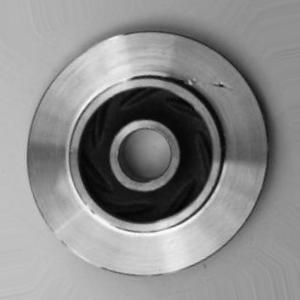defect: (170, 65, 244, 102)
